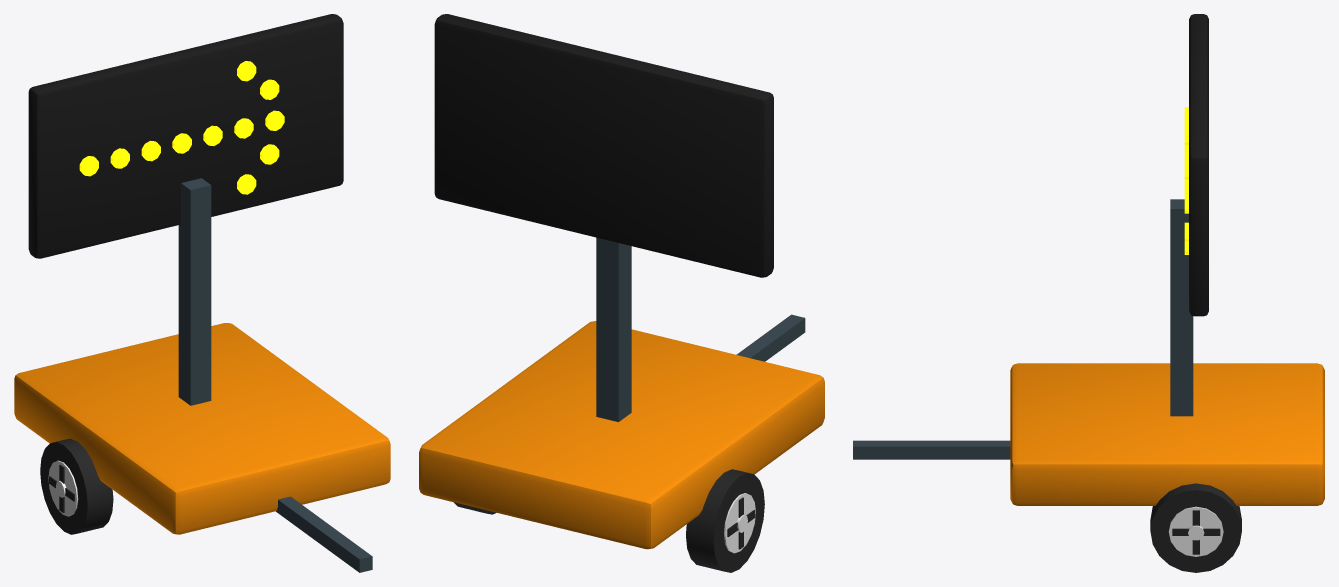
File: roadevents_arrowboard.glb
3 renders of one model, left to right at view 1: azimuth 30°, elevation 25°; view 2: azimuth 150°, elevation 25°; view 3: azimuth 270°, elevation 25°, orthographic. The views are drawn at different scales.
Visible parts, largest first — view 1: ArrowBoard_body, Wheel_R; view 2: ArrowBoard_body, Wheel_R; view 3: ArrowBoard_body, Wheel_L.
Boxes of the visible parts, box(x1,y1,x2,y2) form: ArrowBoard_body: box(14, 14, 390, 572); Wheel_R: box(40, 438, 113, 534); ArrowBoard_body: box(419, 14, 824, 549); Wheel_R: box(686, 469, 764, 572); ArrowBoard_body: box(853, 14, 1324, 505); Wheel_L: box(1150, 483, 1241, 572).
Size of the model in its own units: 2.4 by 3.33 by 3.3.
